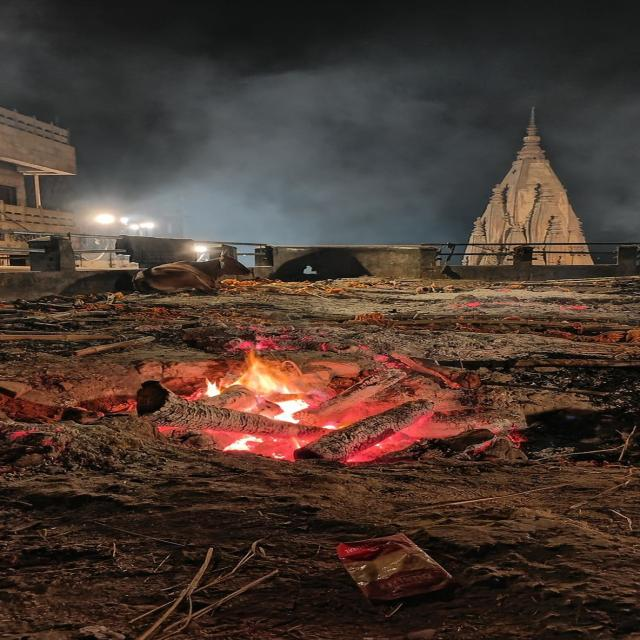fire: (202, 357, 287, 395)
